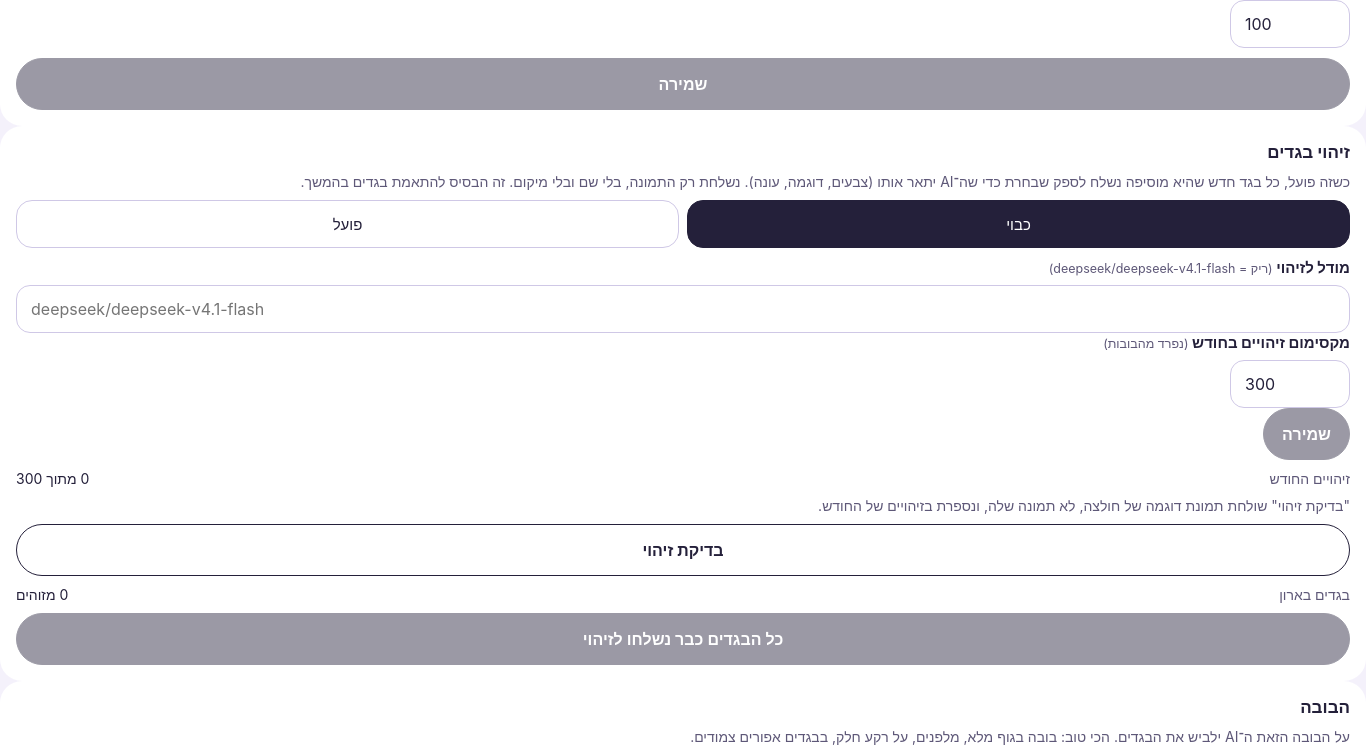
Scenario: AnalysisPanel › saves its own model and cap, apart from the dolls, and refuses a bad cap
(page scrolled)
Expected: the button "שמירה" below "מקסימום זיהויים בחודש" is disabled, [1263,408,1350,460]
Replace the text in the field labelled "מקסימום זיהויים בחודש (נפרד מהבובות)" with "5001" at (1290, 384), box [1230,360,1350,408]
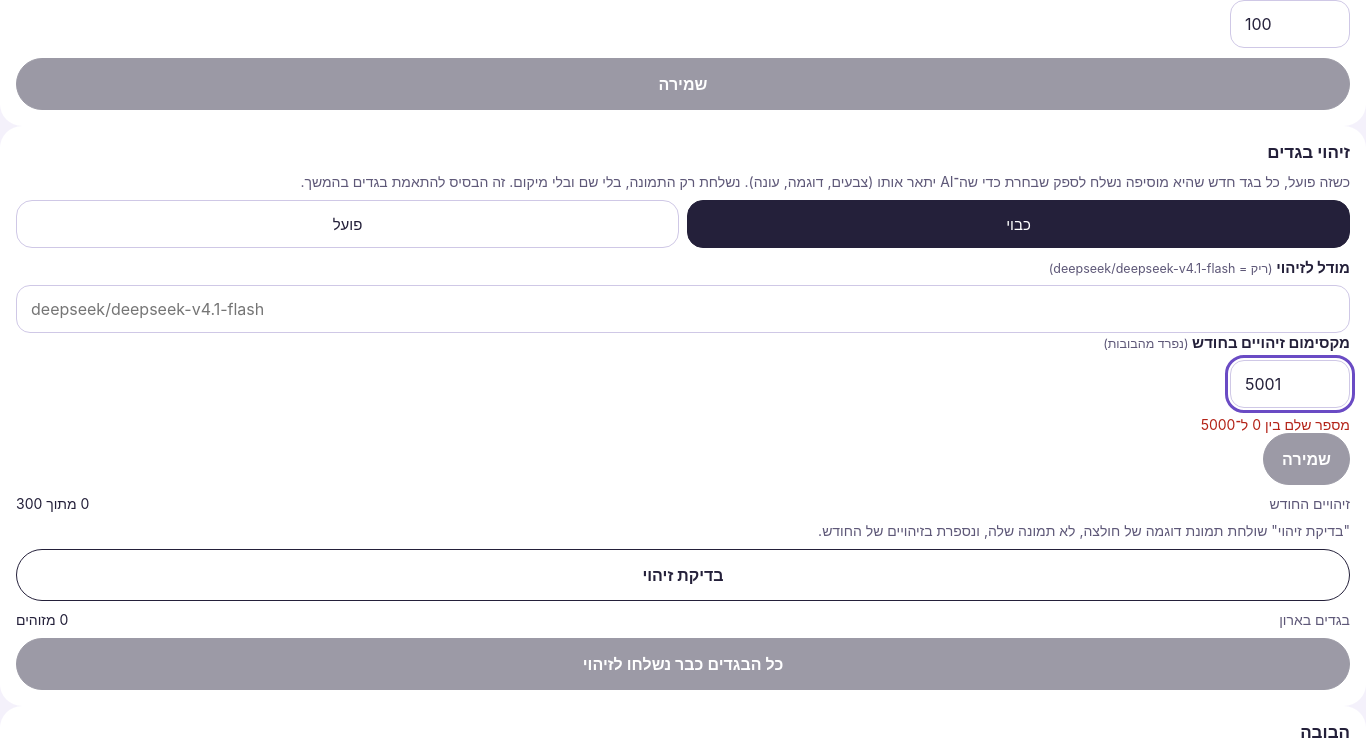
Expected: the button "שמירה" below "מספר שלם בין 0 ל־" is disabled, [1263,433,1350,485]
Now the text "מספר שלם בין 0 ל־5000" is shown, box [1201,416,1350,433]
Replace the text in the field labelled "מקסימום זיהויים בחודש (נפרד מהבובות)" with "1e2" at (1290, 384), box [1230,360,1350,408]
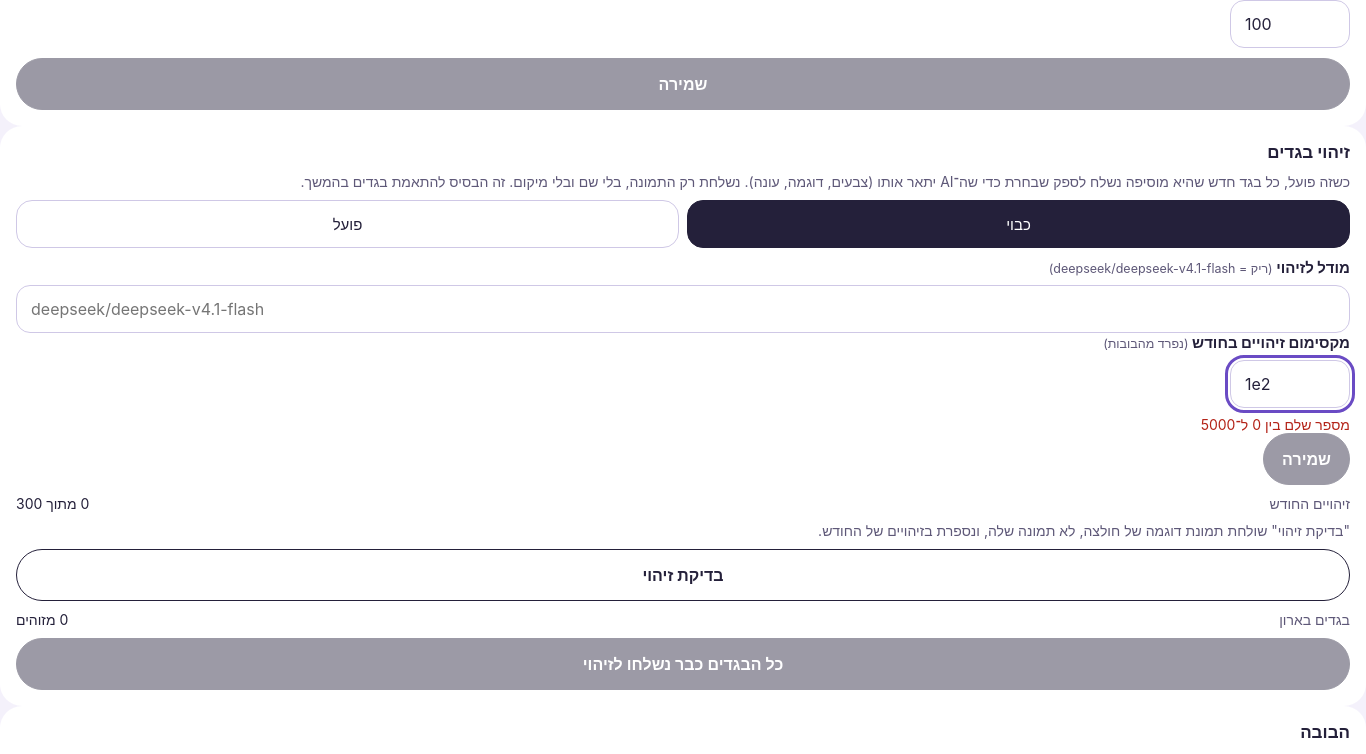
Expected: the button "שמירה" below "מספר שלם בין 0 ל־" is disabled, [1263,433,1350,485]
Now the text "מספר שלם בין 0 ל־5000" is shown, box [1201,416,1350,433]
Replace the text in the field labelled "מקסימום זיהויים בחודש (נפרד מהבובות)" with " 50" at (1290, 384), box [1230,360,1350,408]
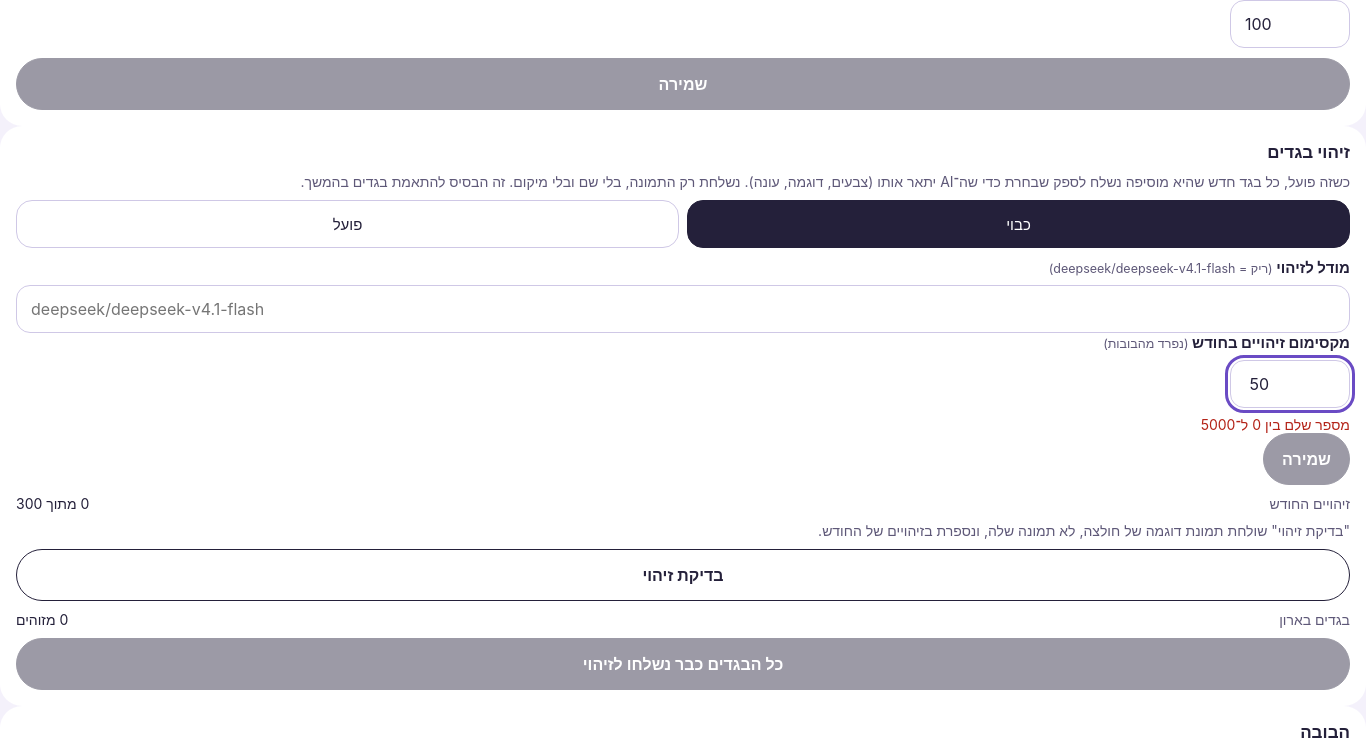
Expected: the button "שמירה" below "מספר שלם בין 0 ל־" is disabled, [1263,433,1350,485]
Now the text "מספר שלם בין 0 ל־5000" is shown, box [1201,416,1350,433]
Replace the text in the field labelled "מקסימום זיהויים בחודש (נפרד מהבובות)" with "500" at (1290, 384), box [1230,360,1350,408]
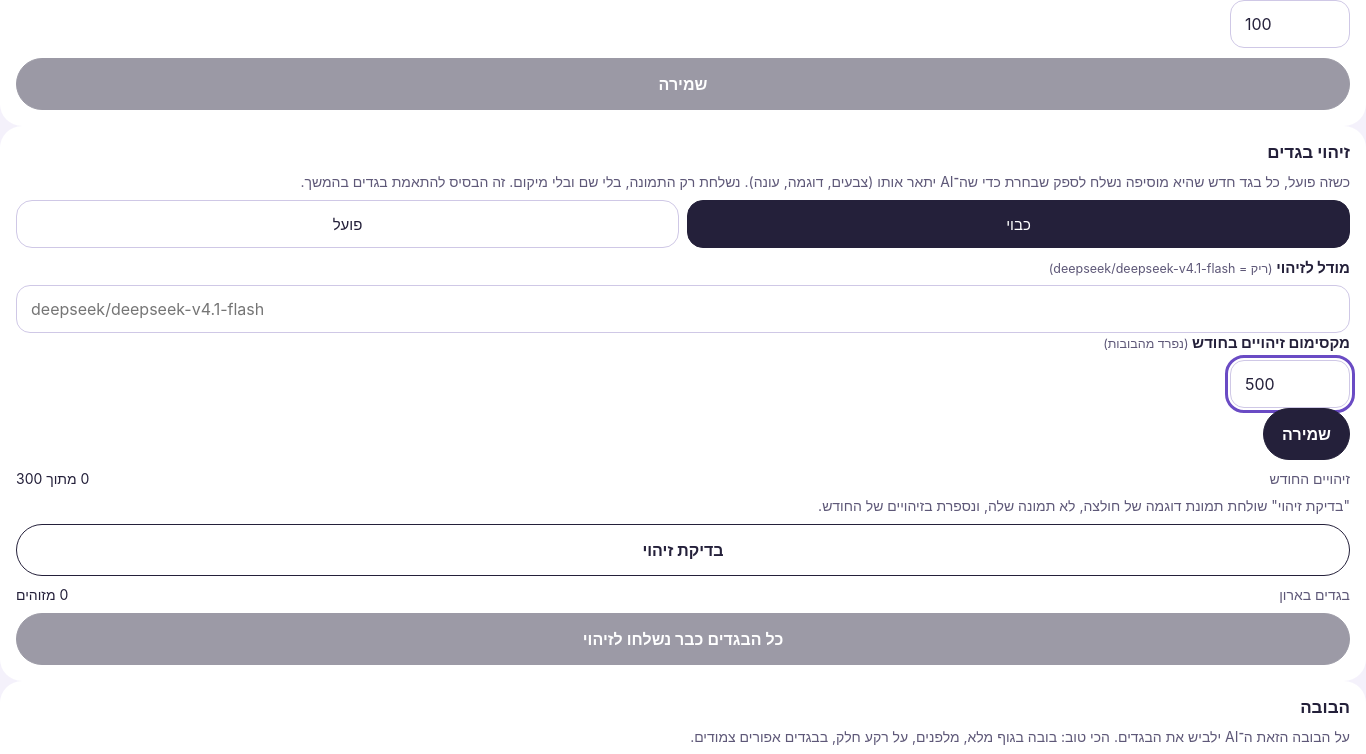
Type " other/vision " into the field labelled "מודל לזיהוי (ריק = deepseek/deepseek-v4.1-flash)" at (683, 309), box [16,285,1350,333]
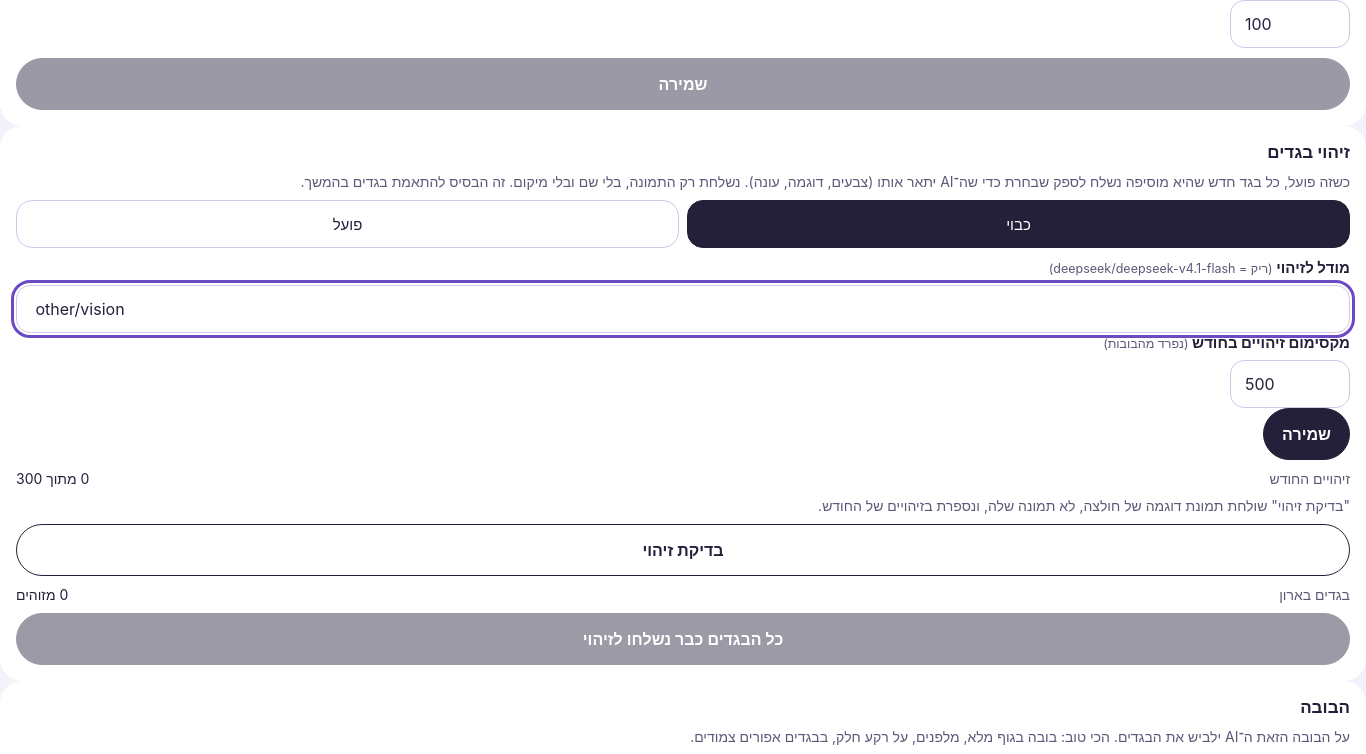
Click the button "שמירה" below "מקסימום זיהויים בחודש" at (1307, 434), box [1263,408,1350,460]
(page scrolled)
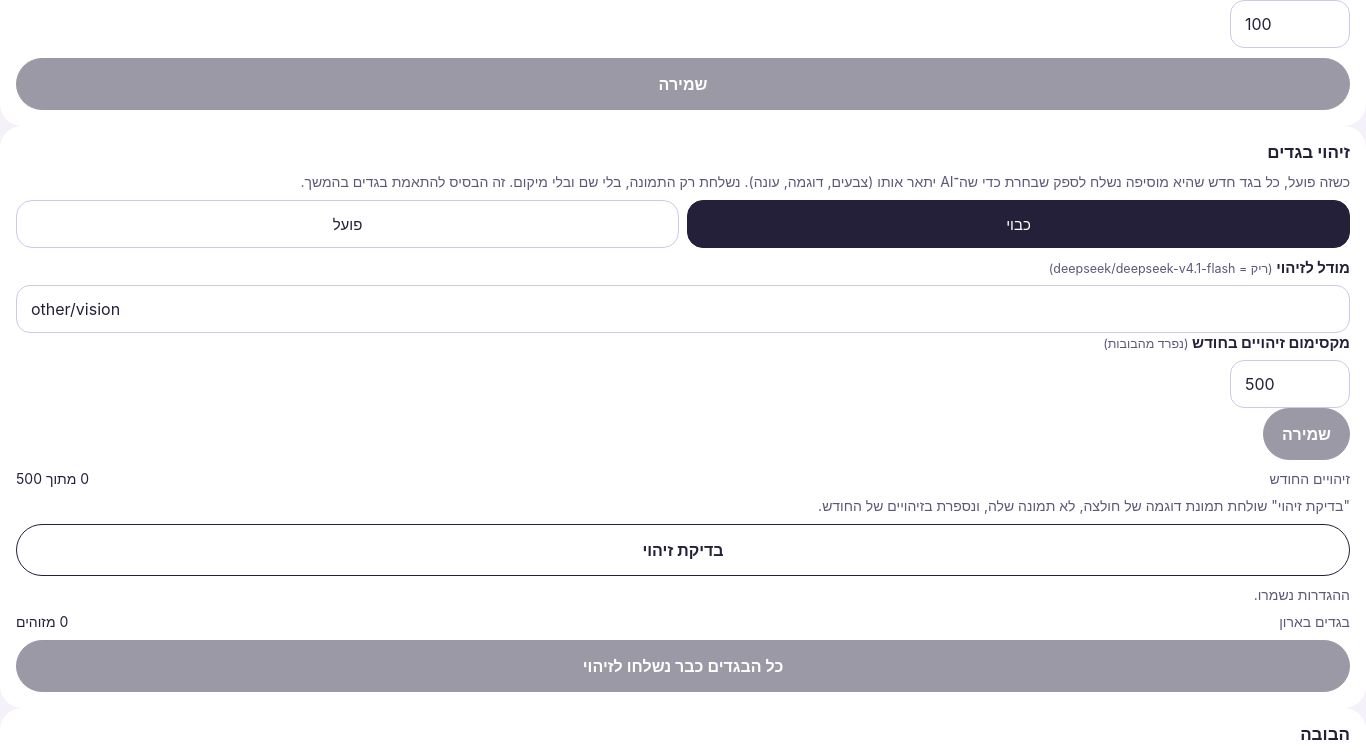
Now the text "ההגדרות נשמרו." is shown, box [1254,586,1350,603]
